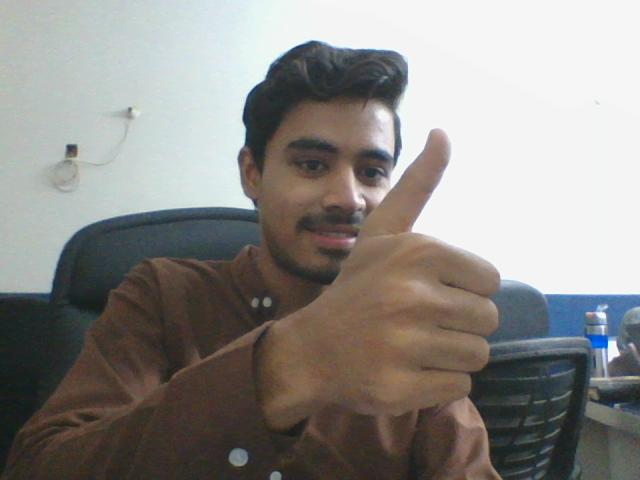thumbs-up: (333, 130, 499, 411)
